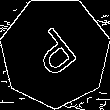P_SE: (26, 21, 85, 84)
